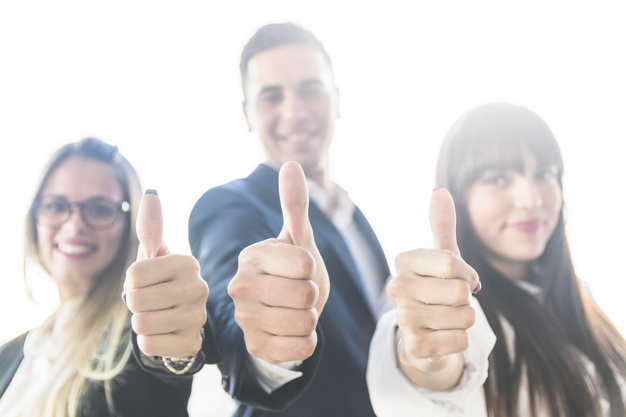thumbsup: (226, 160, 320, 361), (387, 187, 482, 358), (125, 189, 208, 357)
